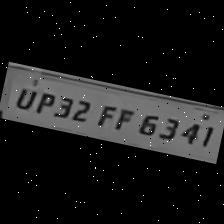1: (196, 119, 218, 148)
2: (68, 94, 94, 125)
3: (156, 110, 182, 142), (52, 90, 74, 119)
4: (176, 116, 202, 146)
6: (132, 108, 160, 138)
F: (107, 102, 134, 134), (92, 99, 119, 130)
P: (30, 87, 55, 116)
U: (10, 81, 38, 111)
